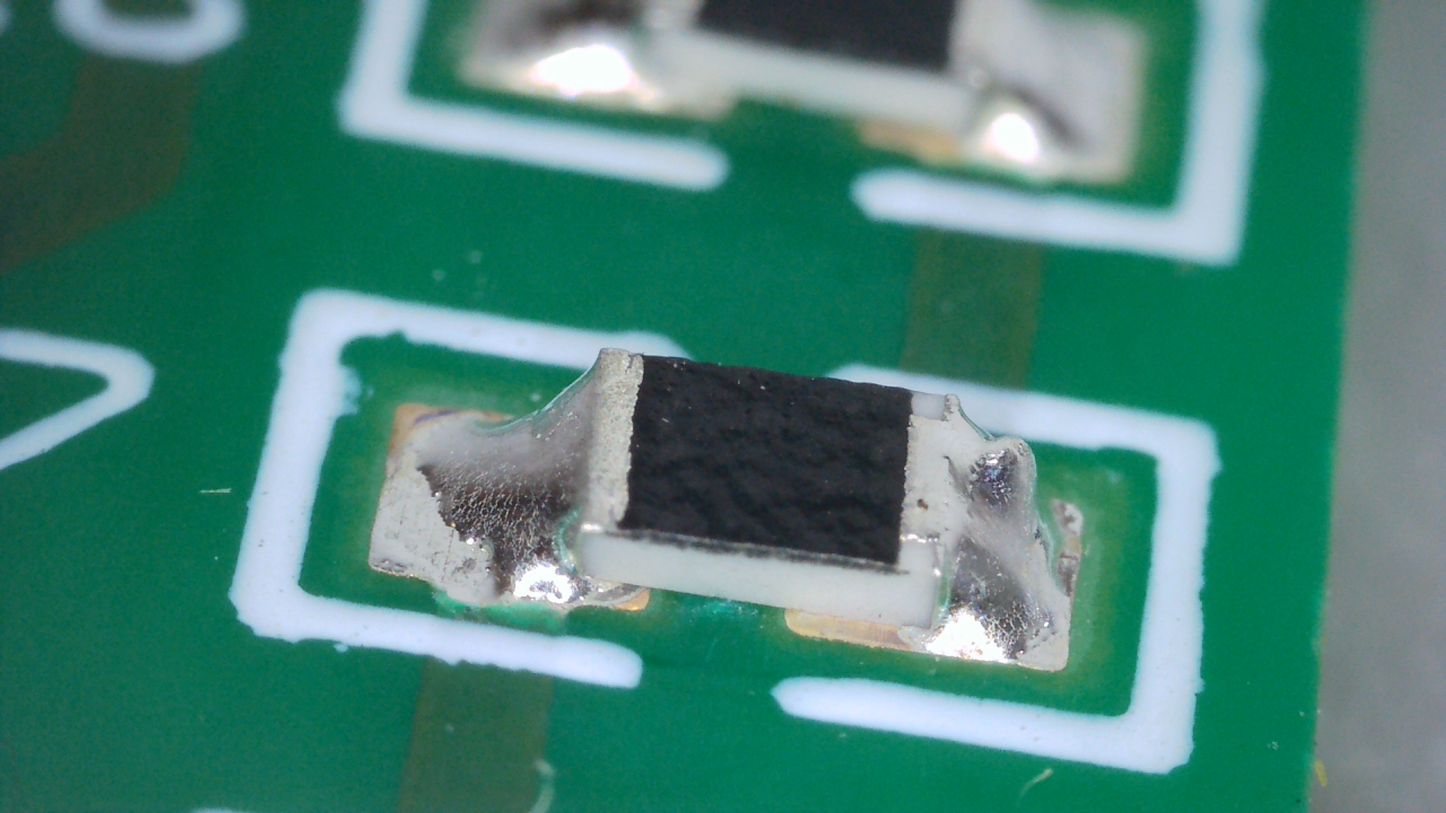NG: (897, 391, 1068, 670), (954, 438, 1035, 524)
OK: (368, 350, 645, 607)
